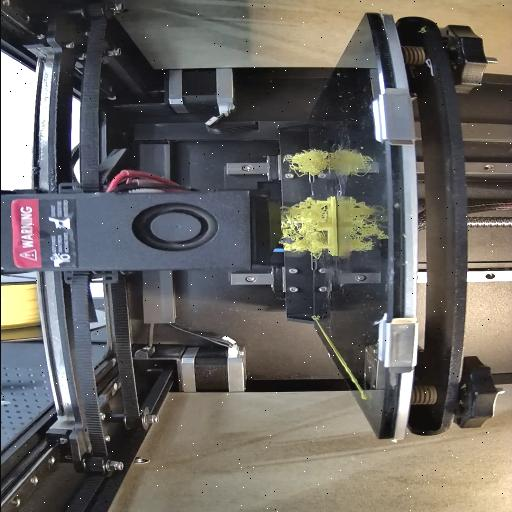spaghetti: (268, 196, 329, 258), (283, 147, 331, 178)
